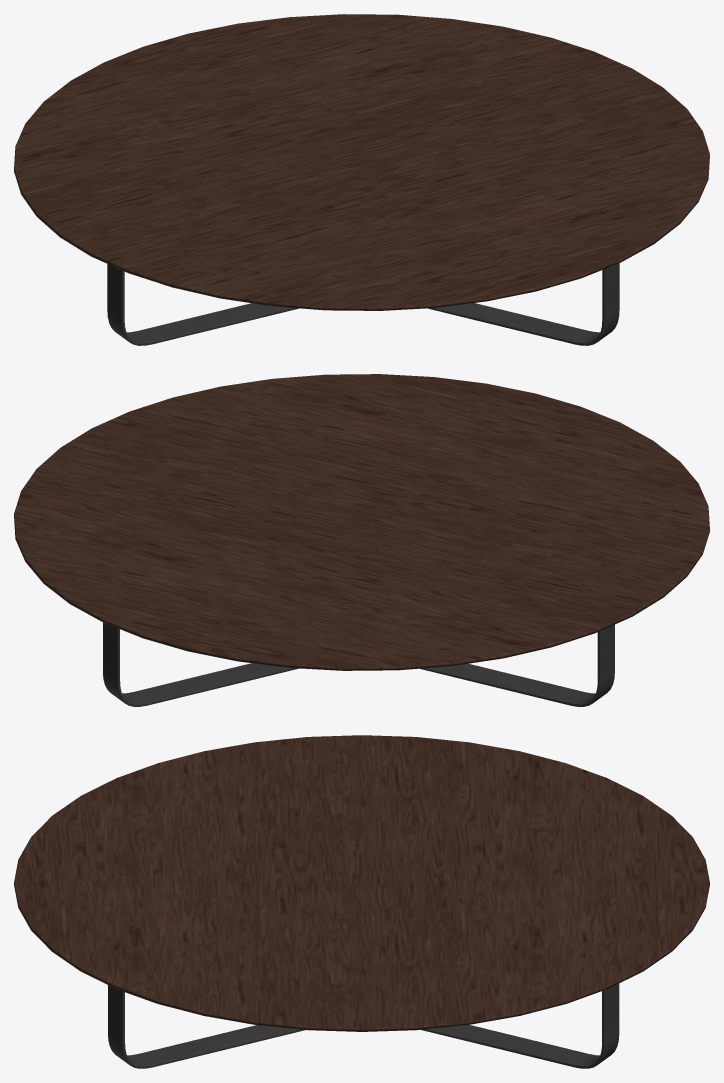
3 renders of one model, top to bottom at view 1: azimuth 30°, elevation 25°; view 2: azimuth 150°, elevation 25°; view 3: azimuth 270°, elevation 25°, orthographic.
Visible parts, largest first — view 1: Cylinder005; view 2: Cylinder005; view 3: Cylinder005.
Part boxes in pixels (x1,y1,x2,y2): Cylinder005: [14, 14, 709, 345]; Cylinder005: [14, 374, 709, 706]; Cylinder005: [14, 735, 709, 1068].
Bounding box in the file's own units: 200 × 40 × 200.
Materials: 1 (1 with a texture image).
